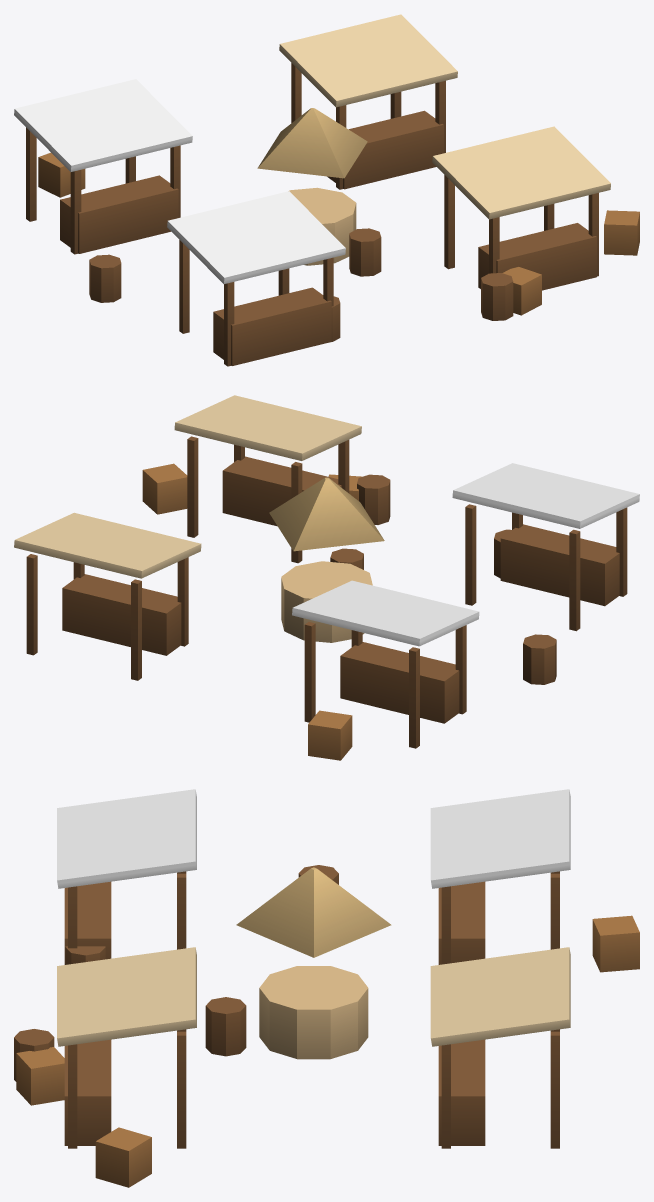
File: MARKET_MA.glb
The picture shows the model from 3 angles, top to bottom: view 1: azimuth 30°, elevation 25°; view 2: azimuth 150°, elevation 25°; view 3: azimuth 270°, elevation 25°; orthographic projection. The views are drawn at different scales.
Parts seen in each view (by area): view 1: Body; view 2: Body; view 3: Body.
Boxes of the visible parts, x1,y1,x2,y2 form: Body: [14, 14, 639, 366]; Body: [14, 395, 639, 760]; Body: [14, 789, 639, 1187].
Bounding box in the file's own units: 4.26 × 1.2 × 4.02.
1 material, 1 textured.
